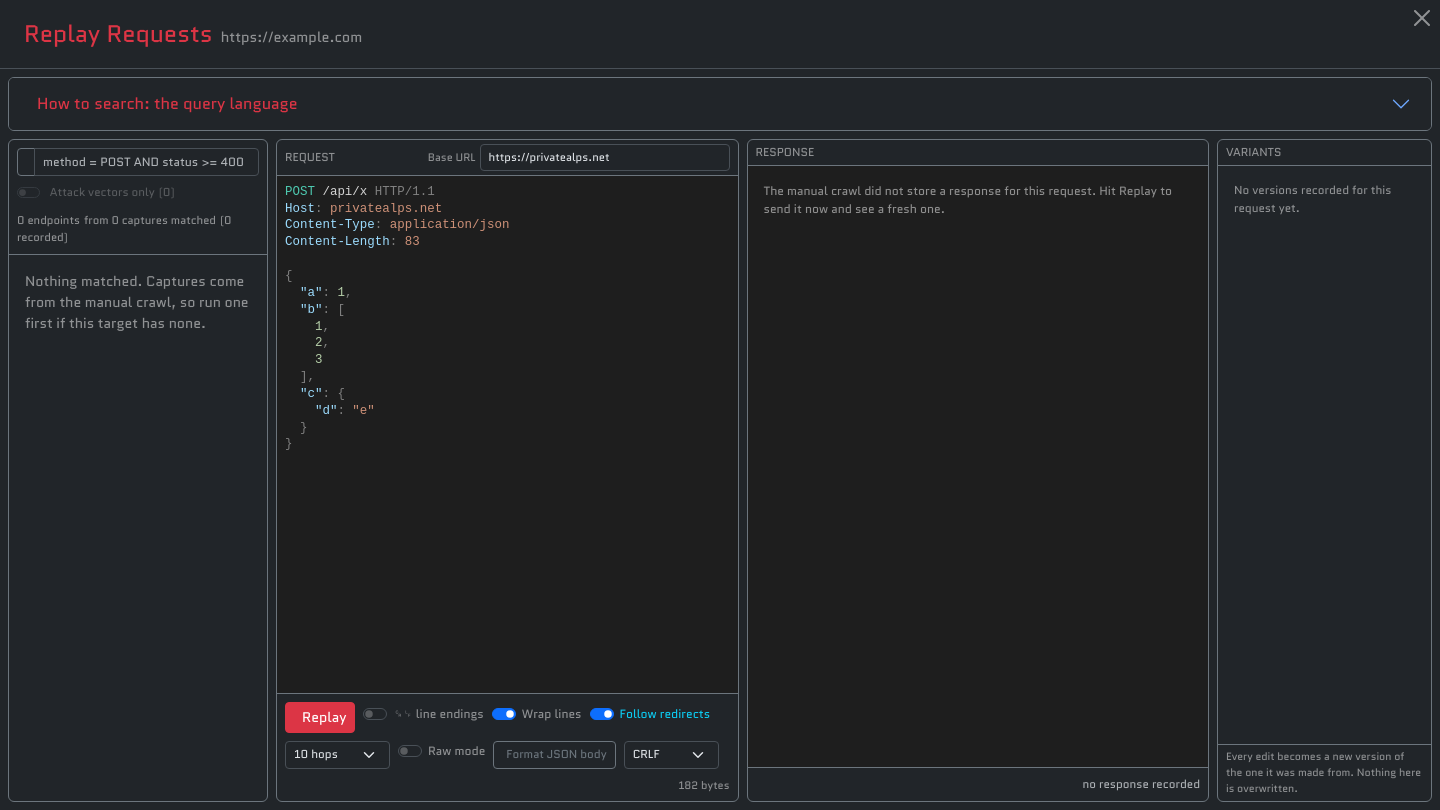
Test: the repeater display controls do not change the bytes › a JSON response auto-formats and Raw shows the original bytes
This screenshot has width=1440, height=810.
Click the button "Replay".
click(320, 718)  # box [285,702,356,733]
Wait 1200 ms
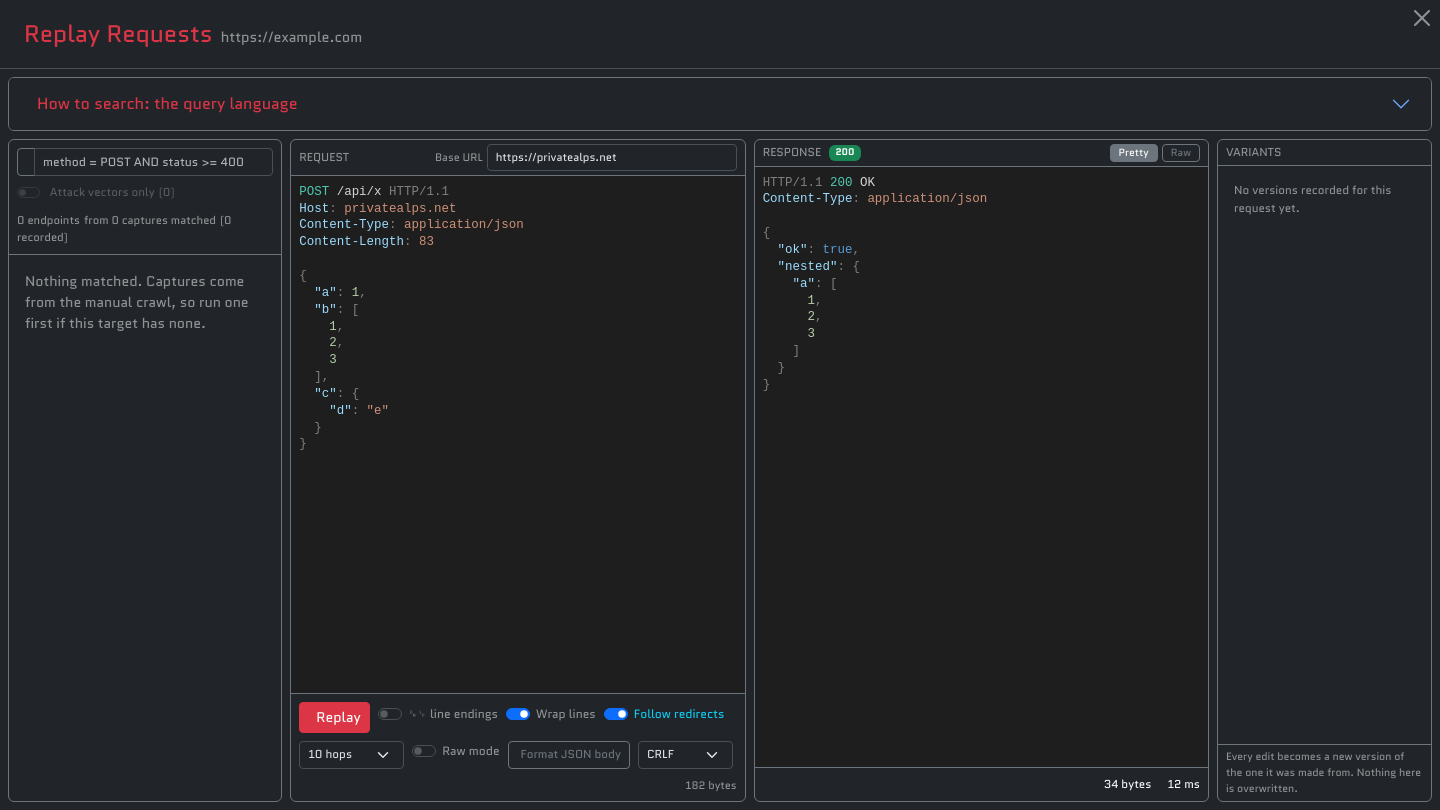
Now the element that starts with "HTTP/1.1" is shown, box [763,176,987,392]
Now the element that starts with "HTTP/1.1" shows "\"ok\"", box [778,243,808,257]
Click the button "Raw".
click(1181, 153)  # box [1162,144,1200,162]
Wait 1200 ms
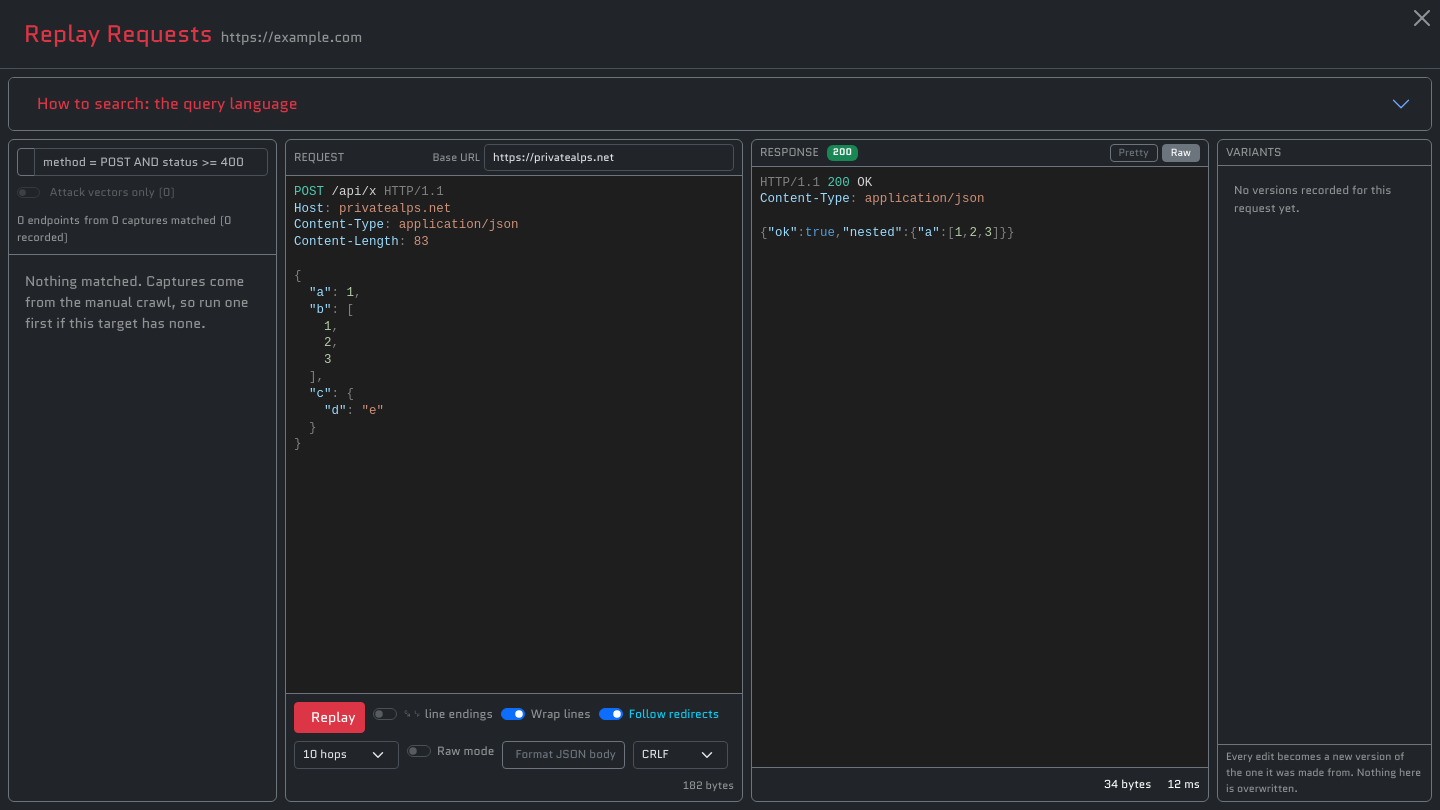
Now the element that starts with "HTTP/1.1" shows "{\"ok\":true,\"nested\":{\"a\":[1,2,3]}}", box [760,176,1014,240]
